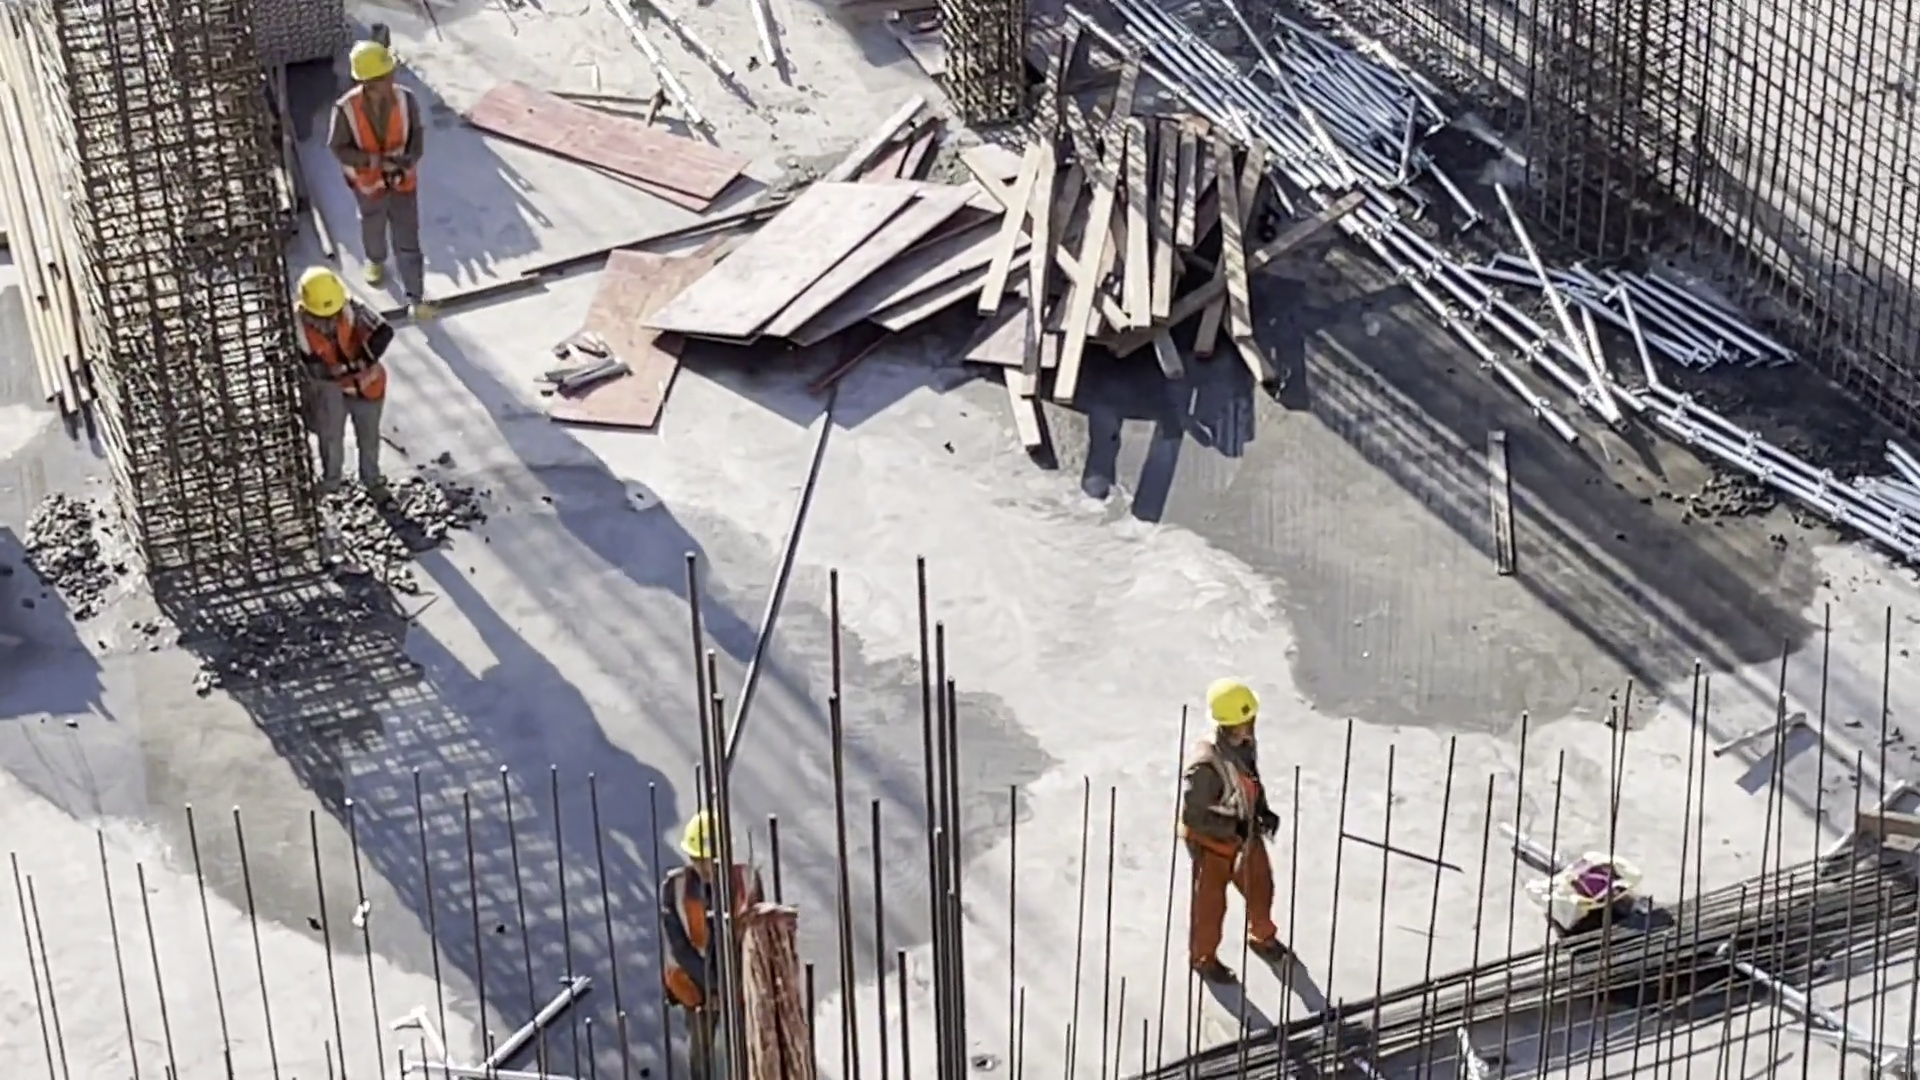board: (654, 179, 986, 347)
helmet: (682, 806, 741, 857), (297, 258, 352, 313), (1211, 675, 1262, 727), (348, 39, 400, 75)
person: (1175, 678, 1307, 994), (338, 43, 458, 313), (273, 267, 406, 501), (656, 811, 780, 1053)
rebar: (1107, 840, 1904, 1080)
scaffold: (1266, 14, 1419, 178), (1595, 278, 1762, 379), (222, 1, 359, 69)
vest: (656, 862, 755, 1003), (329, 84, 427, 193), (291, 311, 386, 408), (1189, 748, 1275, 851)
wood: (985, 130, 1225, 383)
